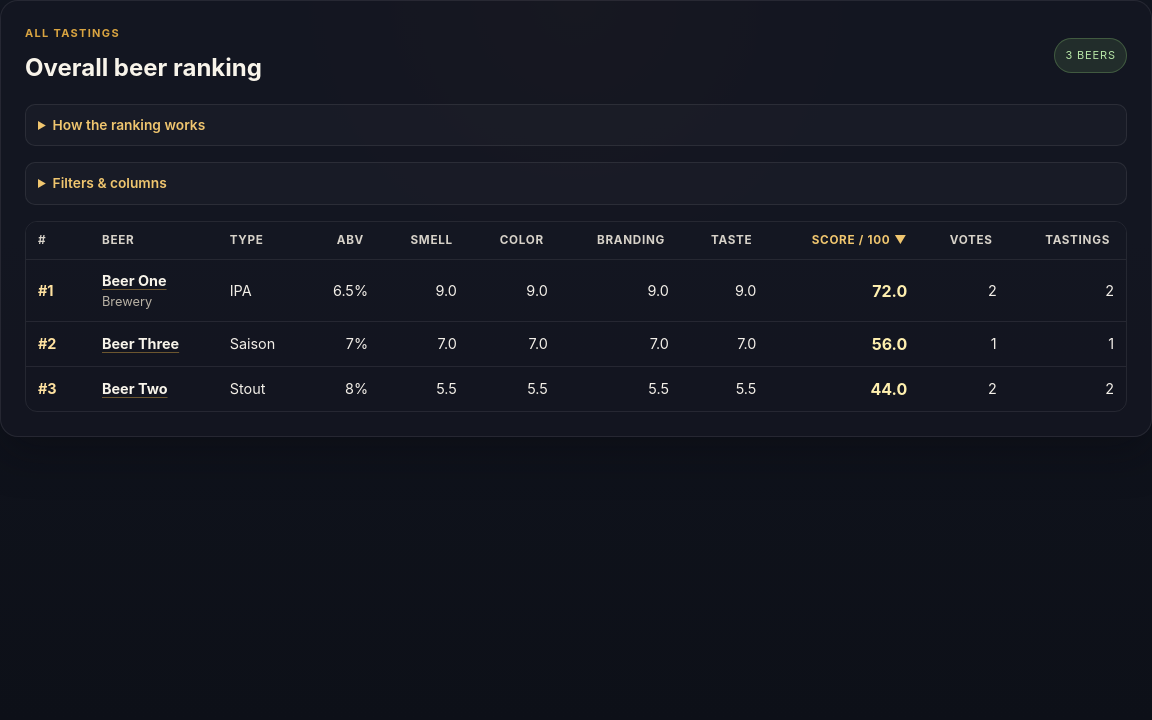
OverallRankingPanel › opens a sortable detail table when a beer name is clicked
Click the button with aria-label "View all ratings for Beer One" at (134, 281), box [102,270,167,292]
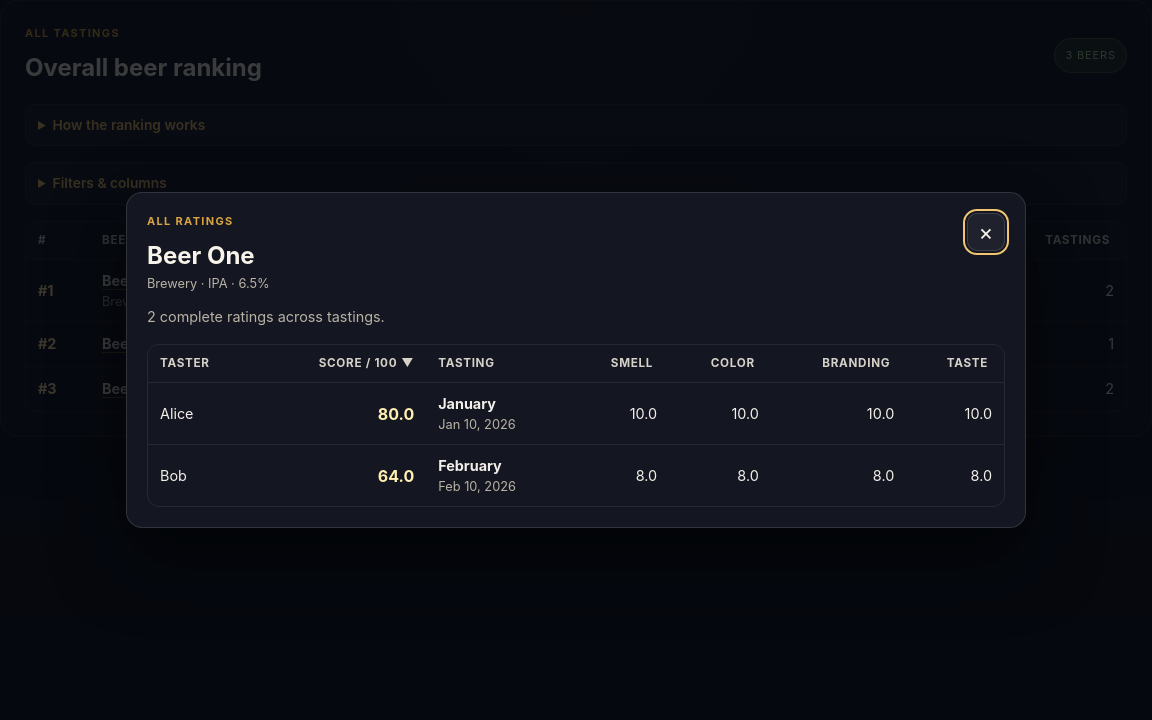
expect the heading "Beer One" is shown: met, box [147,238,270,274]
expect the text "Alice" is shown: met, box [148,383,258,445]
expect the text "Bob" is shown: met, box [148,445,258,506]
Click the button named "Close ratings" at (986, 232), box [967,213,1005,251]
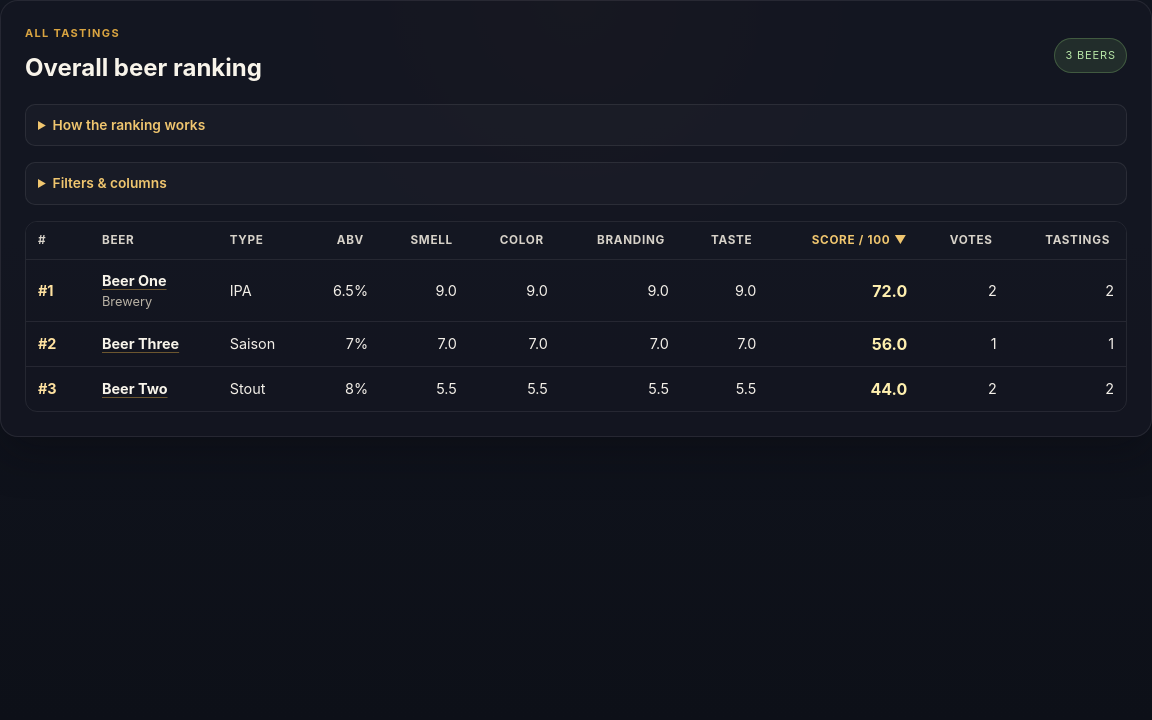
expect the dialog is gone: met
